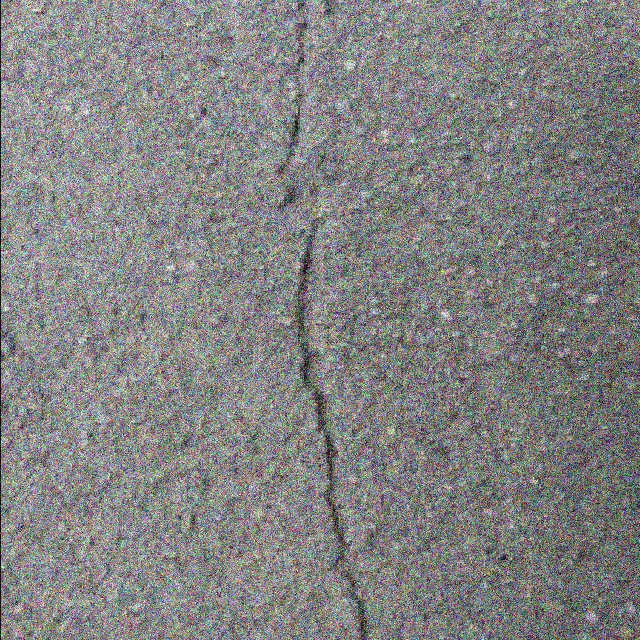SurfaceCrack: (228, 0, 398, 640)
